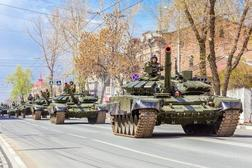t72: (116, 48, 239, 136)
